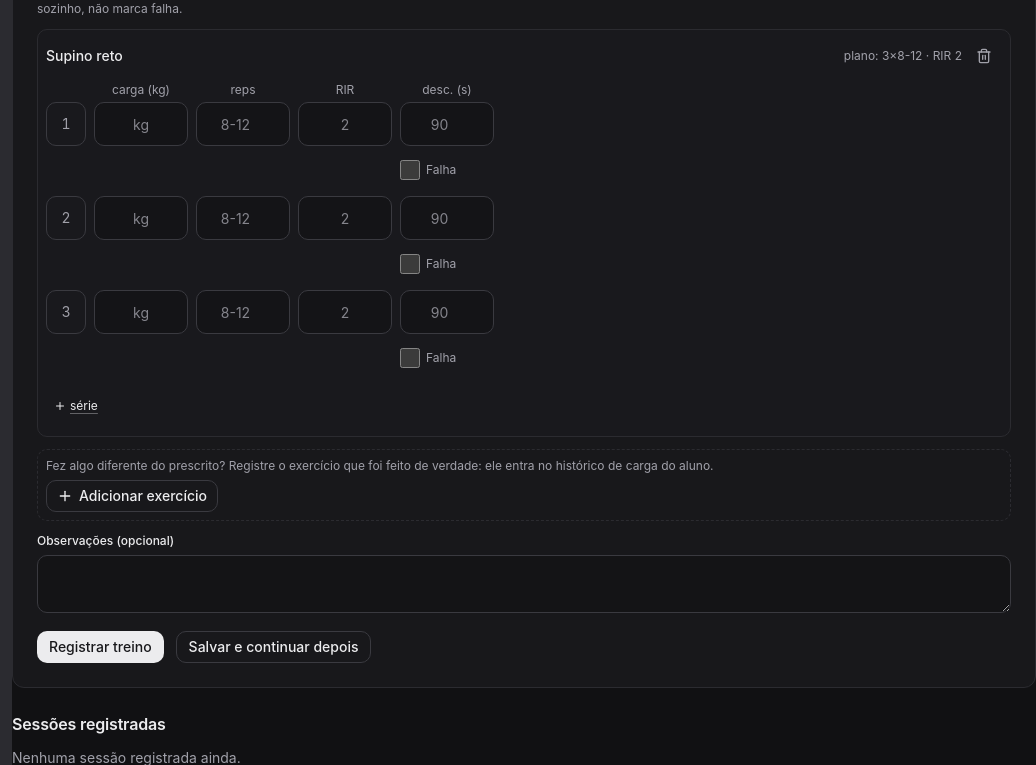
Scenario: Execucao — ordem e exercícios da sessão › tirar o exercício do plano da sessão tira as séries dele do registro, e dá para voltar
(page scrolled)
Click the button "Adicionar exercício".
click(132, 496)  # box [46,480,218,512]
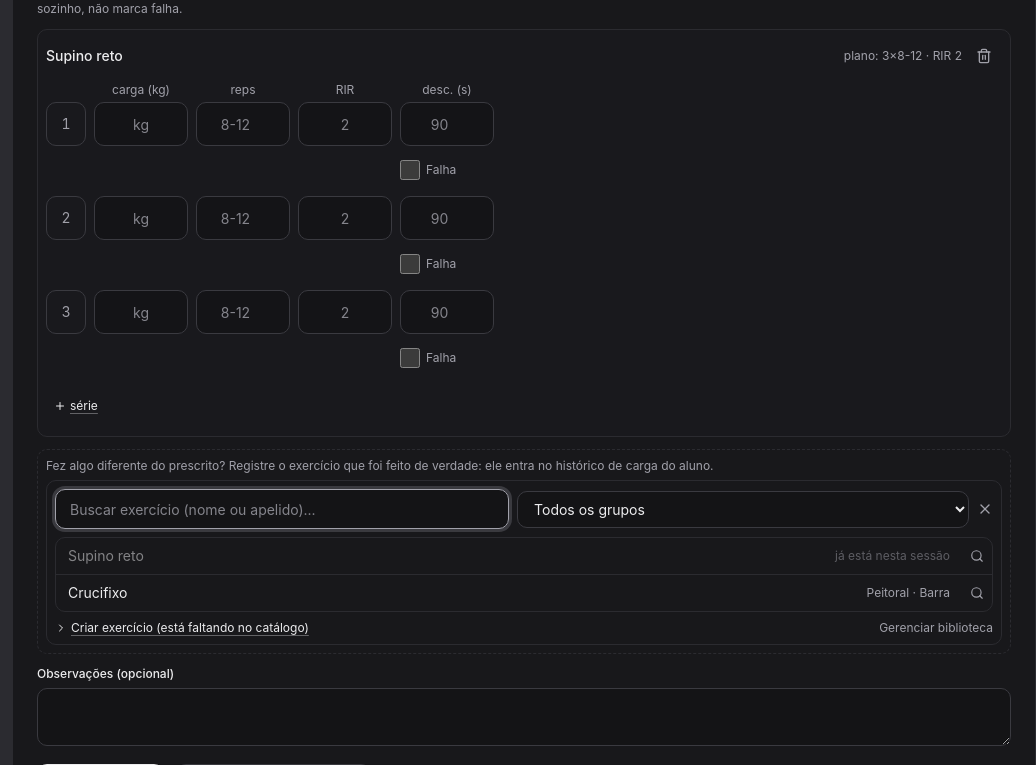
Click the button "Crucifixo Peitoral · Barra".
click(98, 592)  # box [56,575,962,611]
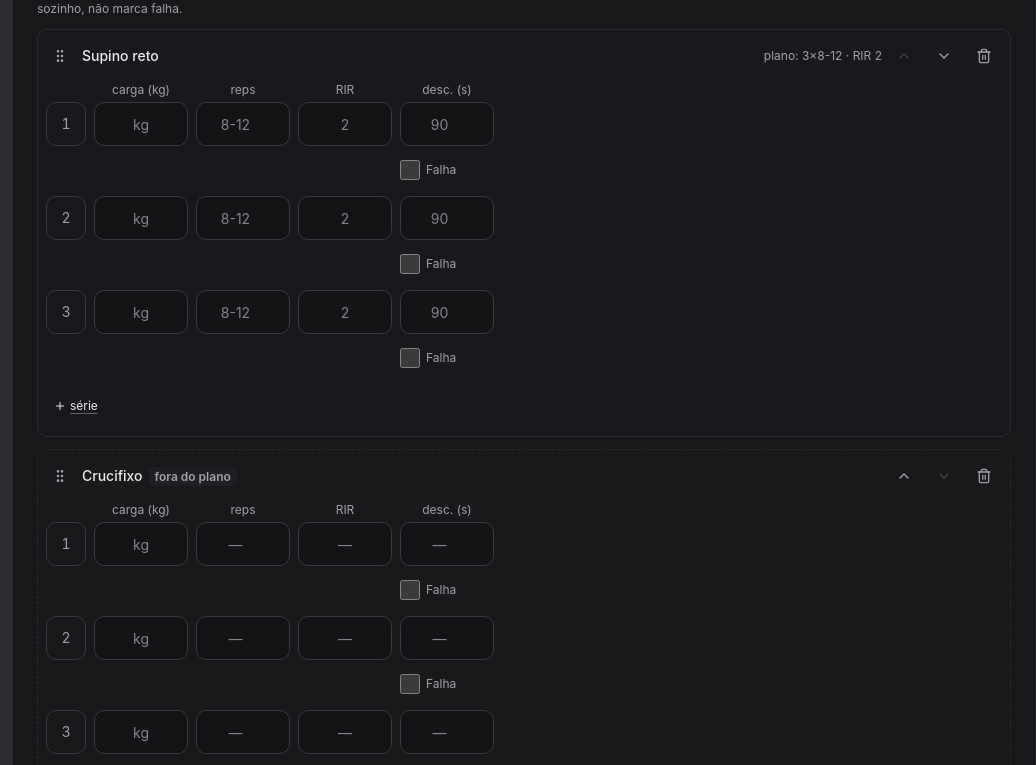
Type "40" into the field named "Carga da série 1 de Supino reto".
click(141, 124); type("40")  # box [94,102,188,146]
Click the button named "Tirar Supino reto desta sessão".
click(984, 56)  # box [966,38,1002,74]
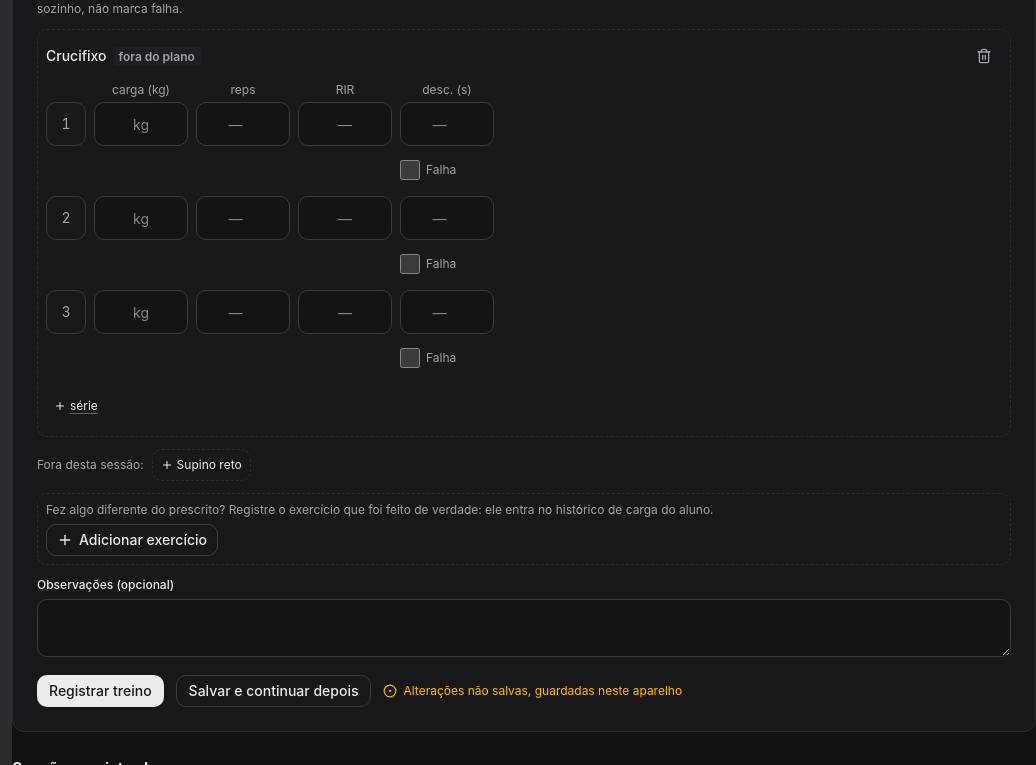
Click the button with aria-label "Voltar Supino reto para a sessão".
click(201, 465)  # box [152,449,251,481]
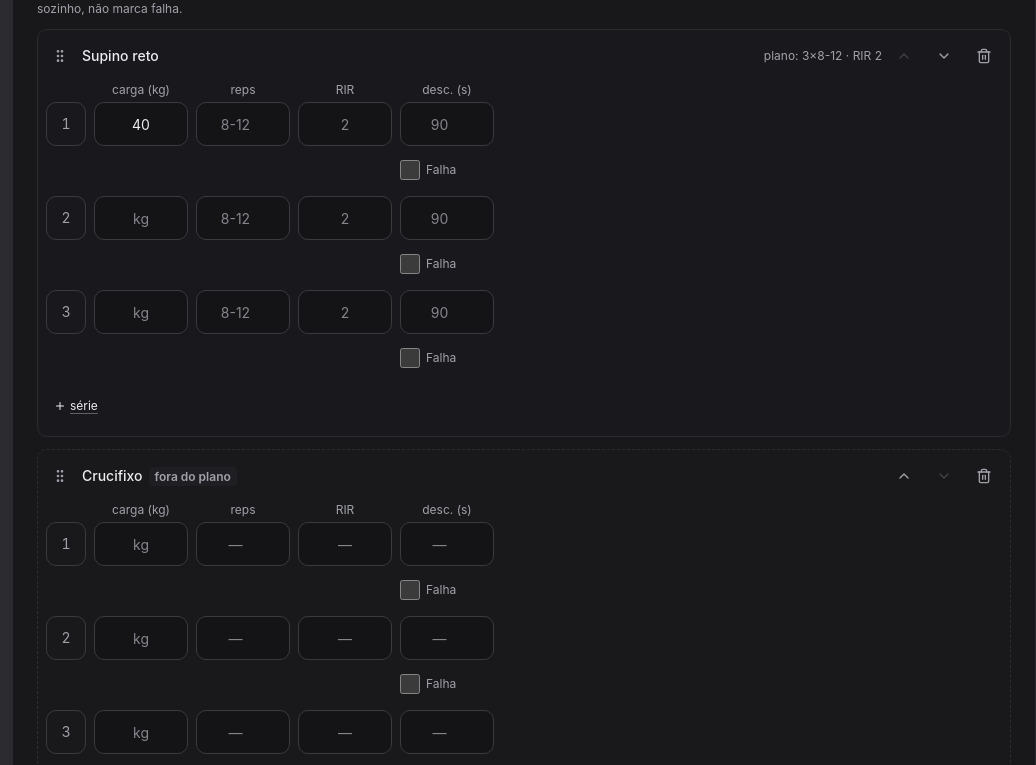
Expected: the field named "Carga da série 1 de Supino reto" holds "40", [94,102,188,146]
Click the button named "Tirar Supino reto desta sessão".
click(984, 56)  # box [966,38,1002,74]
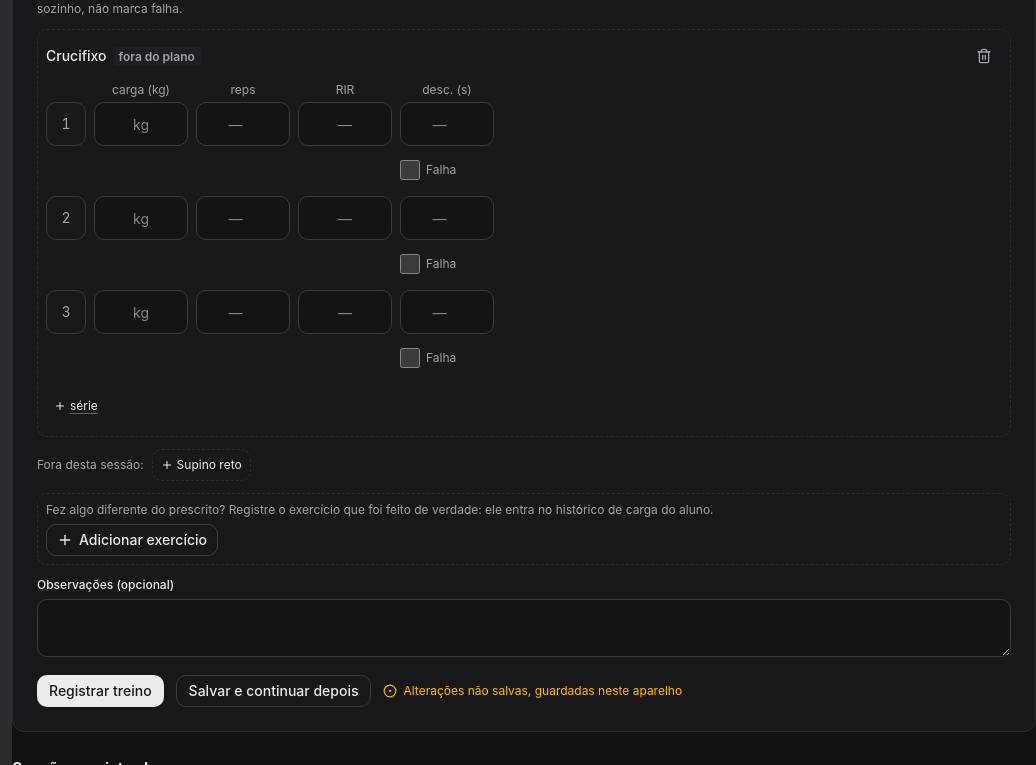
Type "14" into the field named "Carga da série 1 de Crucifixo".
click(141, 124); type("14")  # box [94,102,188,146]
Click the button "Registrar treino".
click(100, 691)  # box [37,675,164,707]
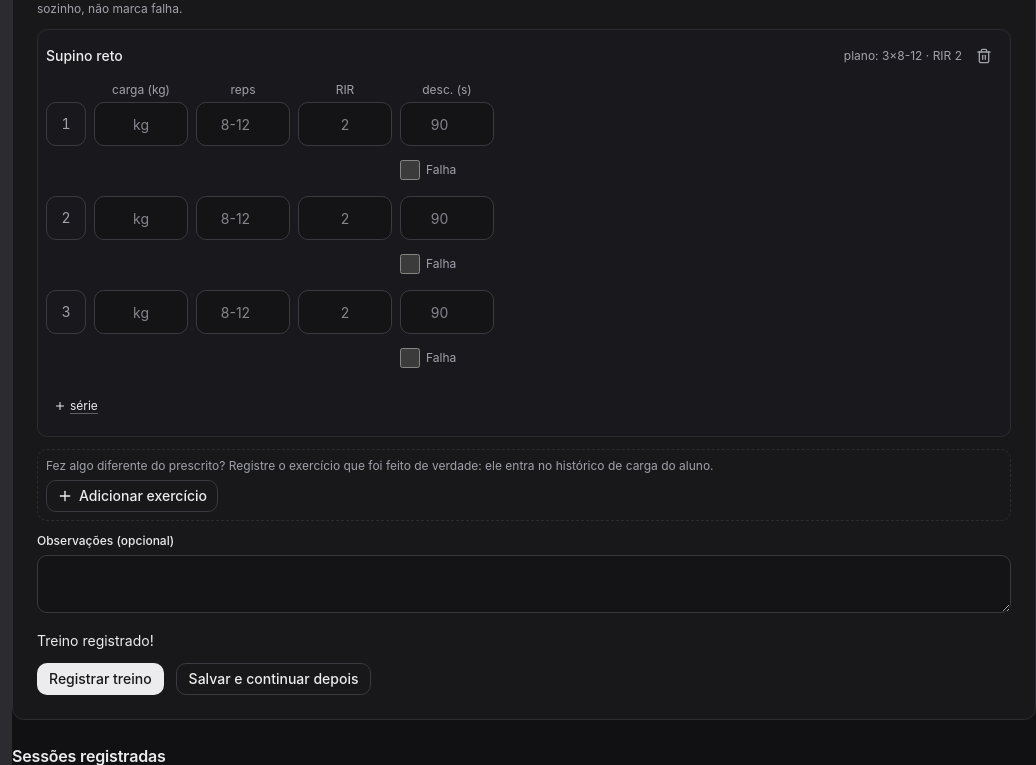
Expected: the field named "Carga da série 1 de Supino reto" is shown, [94,102,188,146]
